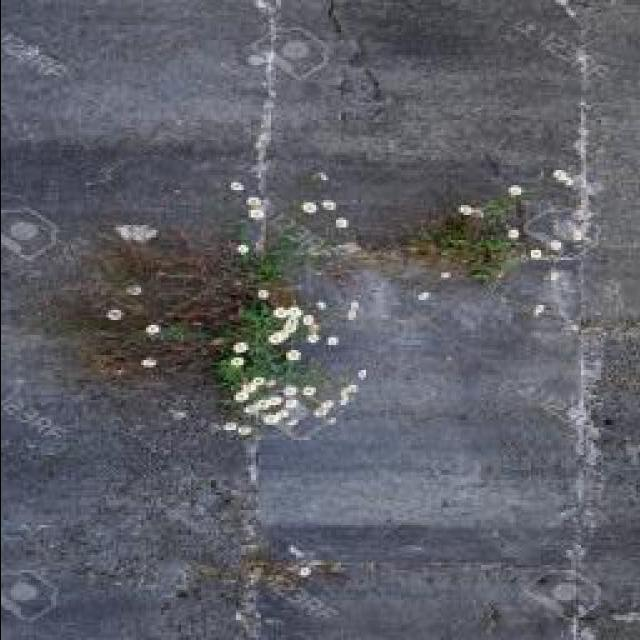vegetation: (133, 174, 573, 430), (214, 280, 354, 434)
